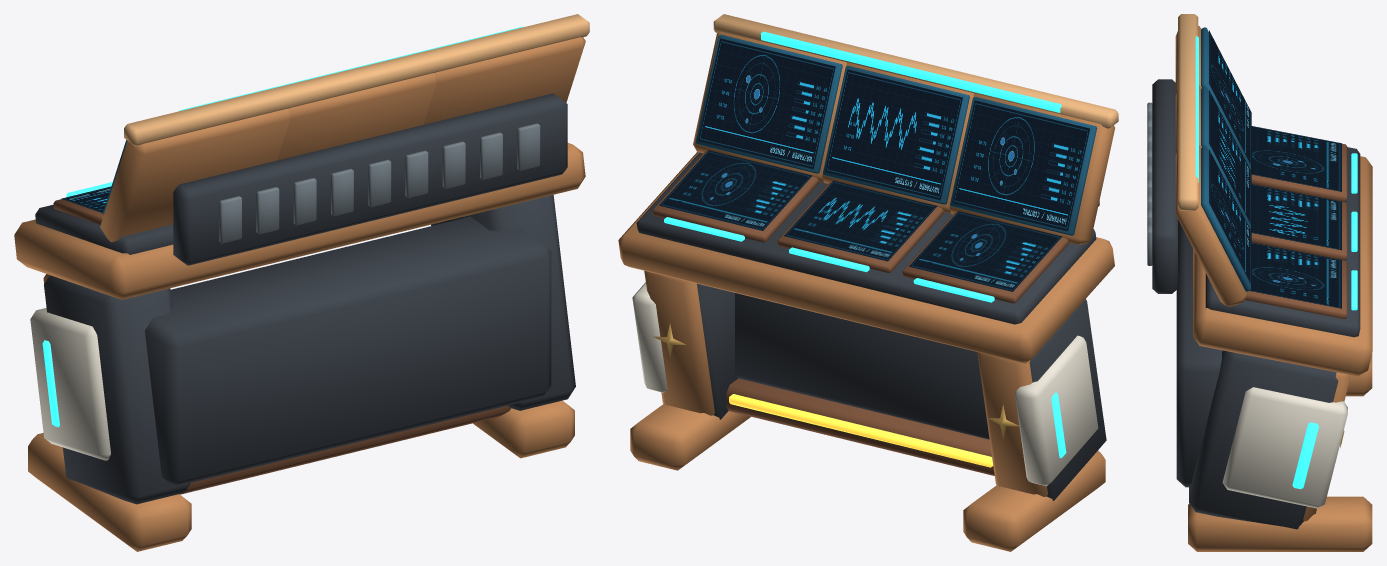
File: Console_Engineering.glb
3 renders of one model, left to right at view 1: azimuth 30°, elevation 25°; view 2: azimuth 150°, elevation 25°; view 3: azimuth 270°, elevation 25°, orthographic. The views are drawn at different scales.
Visible parts, largest first — view 1: Root; view 2: Root; view 3: Root.
Part boxes in pixels (bbox=[...]): Root: bbox=[14, 14, 589, 551]; Root: bbox=[618, 14, 1118, 551]; Root: bbox=[1147, 14, 1372, 551].
Size of the model in its own units: 1.78 by 1.55 by 0.8799.
Materials: 13 (3 with a texture image).
